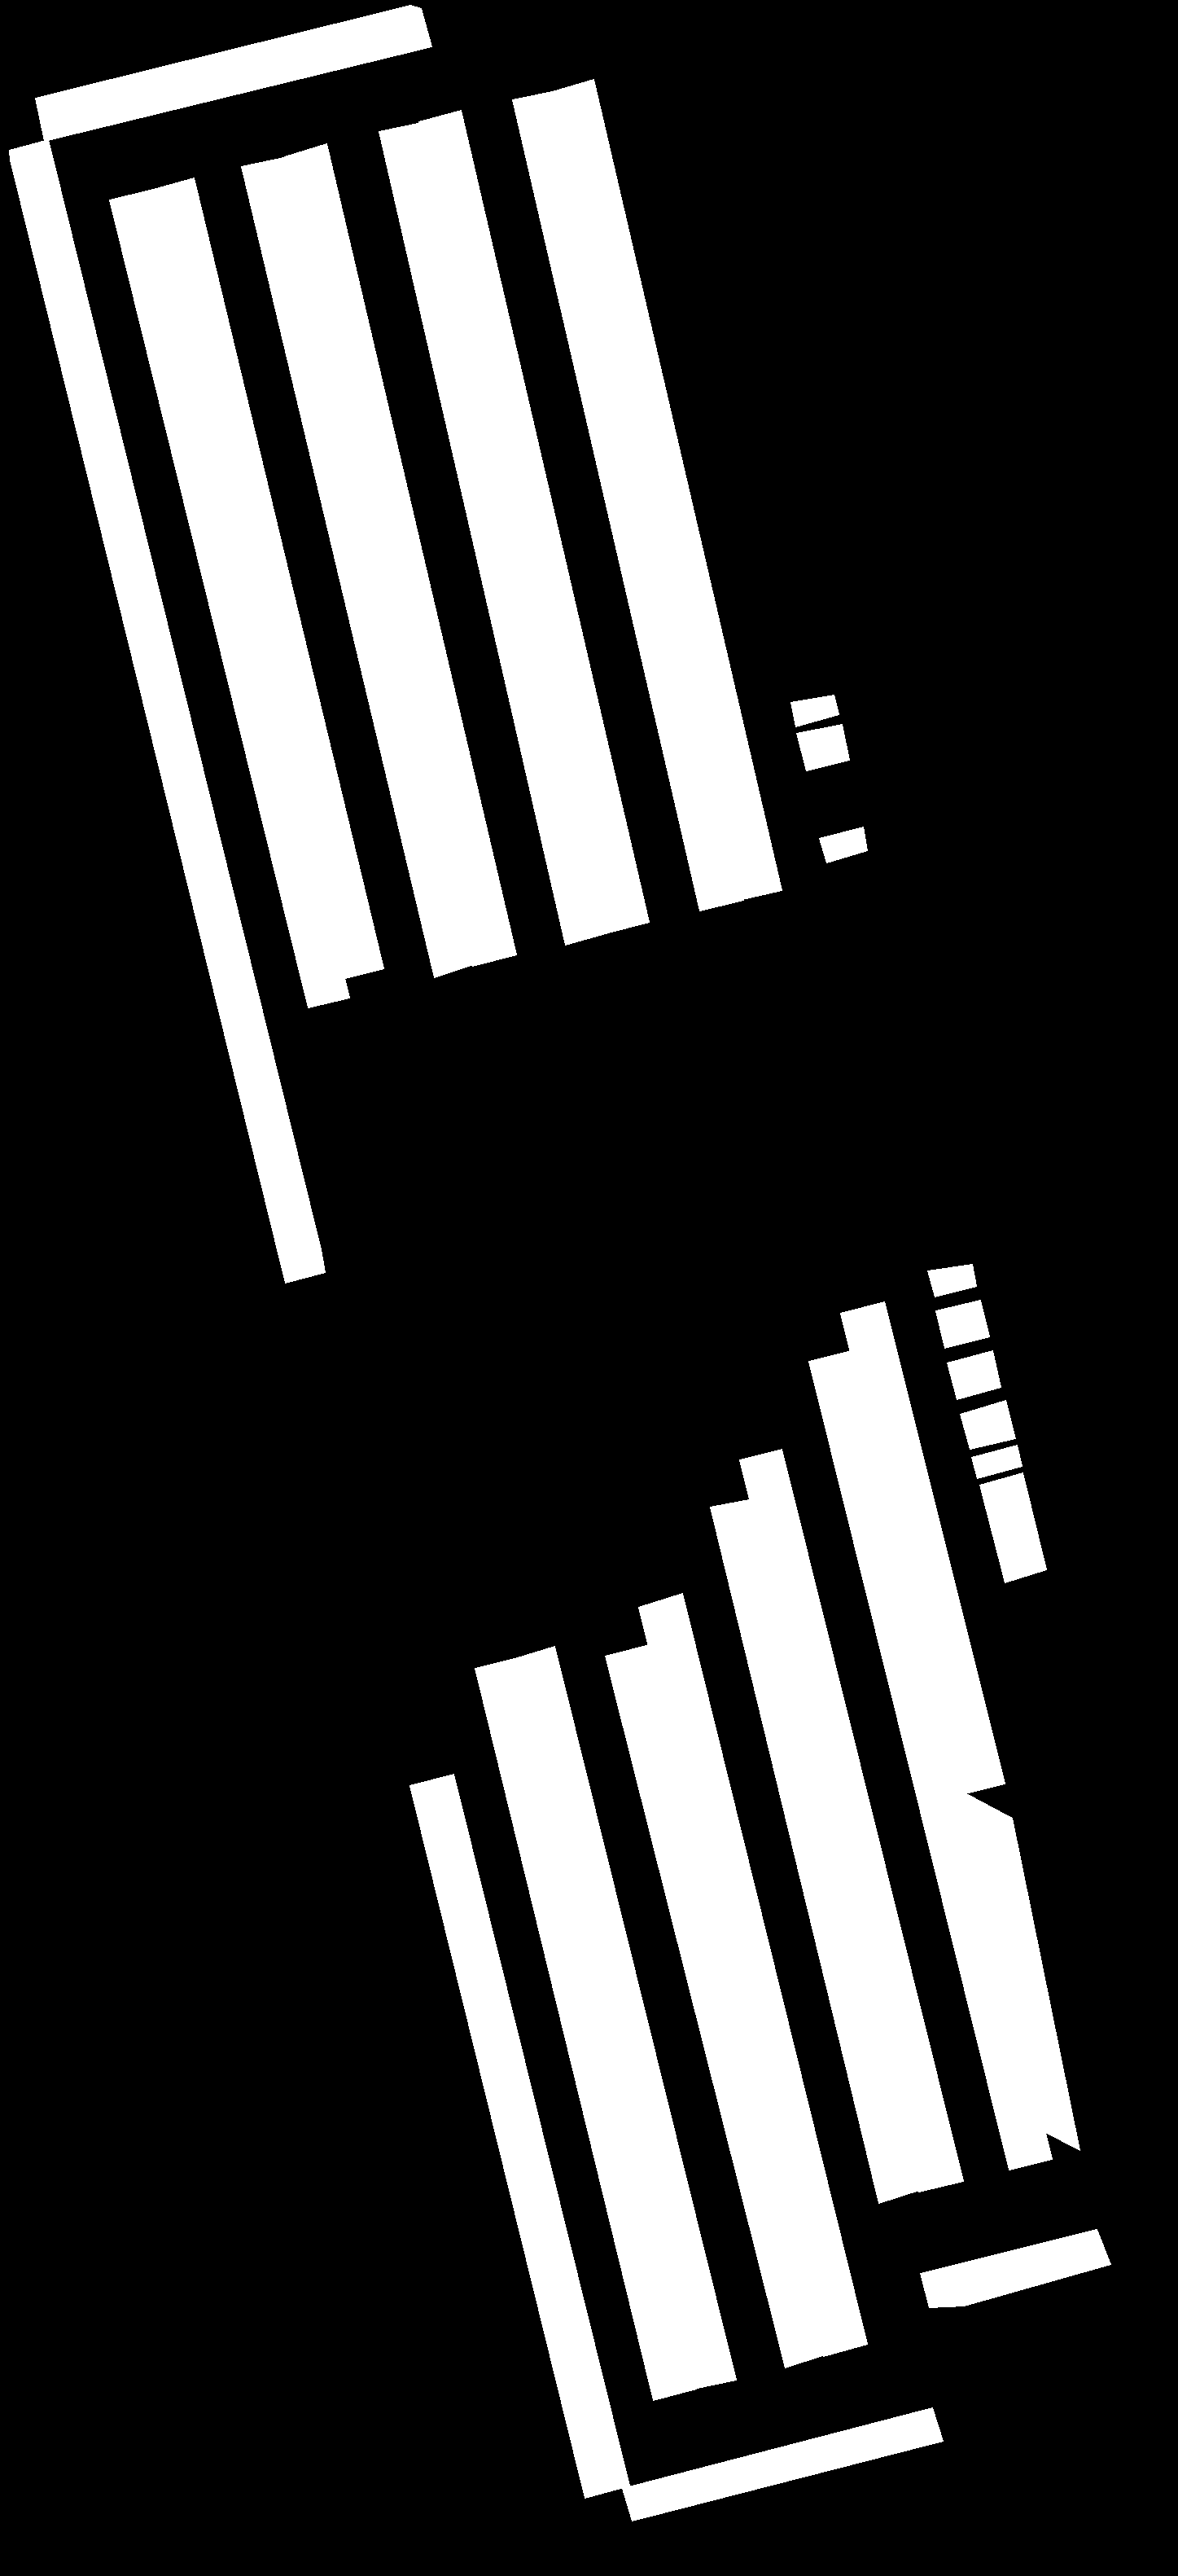parkingspot: (8, 140, 325, 1283), (808, 1350, 1051, 2170), (108, 189, 350, 1007), (242, 156, 475, 977), (284, 143, 516, 966), (378, 122, 608, 945), (419, 110, 649, 933), (552, 79, 782, 900), (513, 90, 743, 910), (150, 177, 383, 979), (637, 1594, 867, 2356), (739, 1449, 963, 2192), (514, 1646, 736, 2389), (475, 1658, 697, 2400), (605, 1643, 826, 2367), (409, 1774, 629, 2497), (710, 1498, 922, 2203), (840, 1301, 1004, 1796), (35, 5, 432, 141), (958, 1792, 1079, 2151), (623, 2407, 943, 2520), (920, 2229, 1111, 2307), (979, 1472, 1047, 1582), (959, 1400, 1015, 1449), (946, 1350, 1001, 1400), (935, 1299, 989, 1347), (797, 724, 849, 770), (818, 826, 867, 863), (971, 1444, 1022, 1479), (927, 1263, 976, 1296), (790, 695, 838, 726)
